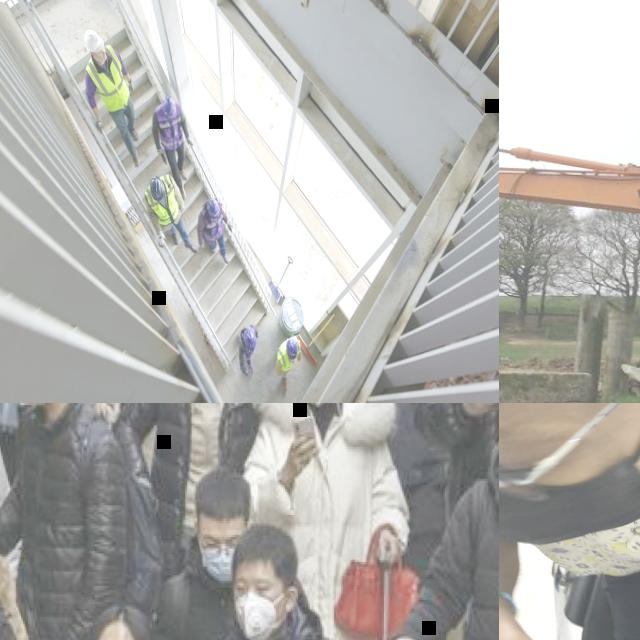Hardhat: (84, 29, 104, 53), (150, 175, 165, 201), (162, 95, 176, 122), (207, 197, 221, 220), (243, 328, 256, 349), (286, 338, 297, 358)
Mask: (499, 403, 640, 550), (232, 592, 288, 640), (198, 541, 235, 582)
NO-Hardhat: (234, 524, 302, 574), (192, 467, 251, 524), (94, 600, 145, 640)
NO-Mask: (97, 54, 107, 62)
NO-Safety Vest: (268, 410, 379, 638), (21, 413, 107, 636), (552, 403, 640, 597), (337, 403, 456, 488), (461, 487, 499, 640), (168, 569, 231, 640), (443, 403, 499, 475)
Person: (245, 403, 406, 640), (499, 403, 640, 640), (331, 403, 462, 640), (0, 403, 128, 640), (374, 403, 499, 640), (120, 403, 259, 564), (181, 523, 371, 640), (150, 467, 255, 640), (109, 403, 265, 469), (84, 29, 141, 167), (410, 403, 499, 486), (0, 463, 41, 640), (51, 595, 183, 640), (152, 95, 194, 199), (144, 173, 198, 253), (197, 198, 234, 263), (275, 335, 301, 389), (238, 323, 259, 378)
Safety Vest: (85, 43, 129, 111), (143, 173, 179, 224), (155, 100, 183, 149), (276, 335, 300, 371), (200, 199, 222, 236)
vehicle: (499, 101, 640, 403)
